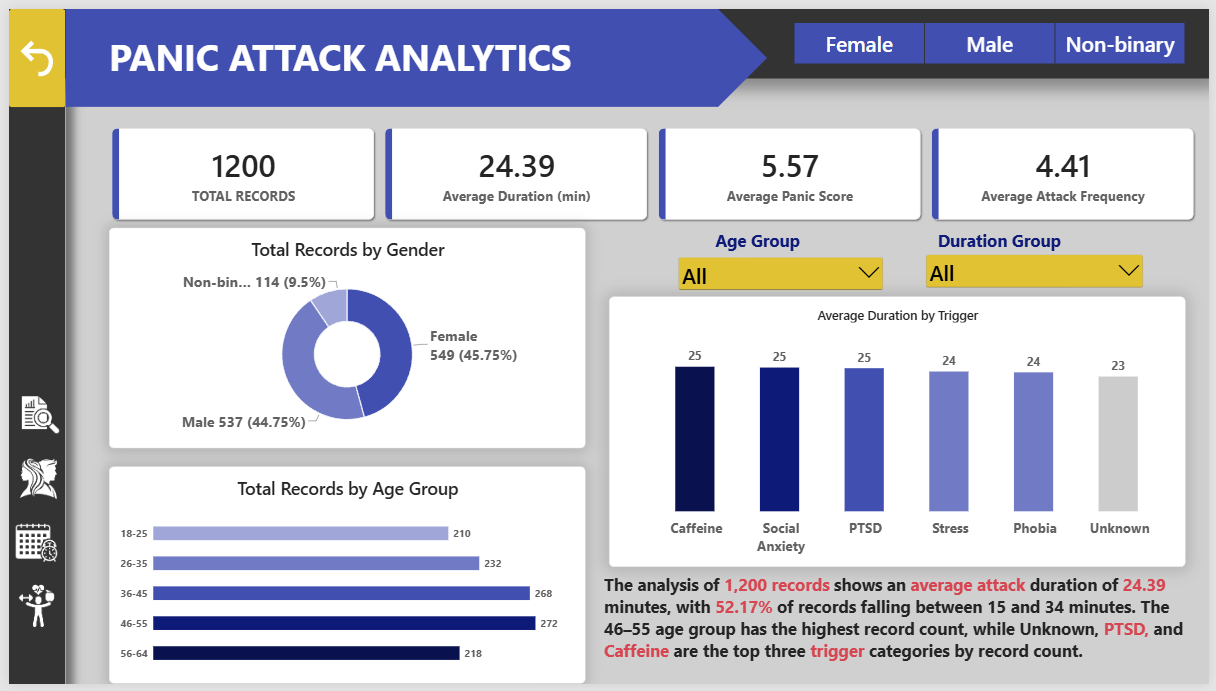

What the dashboard file says about the page in this screenshot:
{"tool":"powerbi","page":{"name":"Executive Summary","canvas":[1920,1080],"ordinal":0},"visuals":[{"type":"shape","box":[0,0,90,1080],"z":0},{"type":"shape","box":[55,0,1865,111.2],"z":1000},{"type":"cardVisual","fields":{"Data":["MEASURABLE_TABLE.TOTAL RECORDS","MEASURABLE_TABLE.AVG_DURATION","MEASURABLE_TABLE.AVG_PANIC_SCORE","MEASURABLE_TABLE.AVG_ATTACK_FRQ"]},"box":[160,185,1740,156],"z":3000},{"type":"columnChart","title":"Average Duration by Trigger","fields":{"Category":["PANIC_ATTACK_DATA.TRIGGER_REASON"],"Y":["MEASURABLE_TABLE.AVG_DURATION"]},"box":[960,460,922.5,432.5],"z":4000},{"type":"slicer","fields":{"Values":["PANIC_ATTACK_DATA.GENDER"]},"box":[1235,20,664.2,69.2],"z":5000},{"type":"slicer","fields":{"Values":["PANIC_ATTACK_DATA.Duration Group"]},"box":[1462.5,388.8,357.5,90],"z":6000},{"type":"slicer","fields":{"Values":["PANIC_ATTACK_DATA.AGE_GROUP"]},"box":[1066.2,391.2,337.5,80],"z":7000},{"type":"textbox","box":[1130,351.2,192.5,40],"z":8000},{"type":"textbox","box":[1485,351.2,237.5,47.5],"z":9000},{"type":"actionButton","box":[0,0,90,157.5],"z":10000},{"type":"donutChart","title":"Total Records by Gender","fields":{"Category":["PANIC_ATTACK_DATA.GENDER"],"Y":["MEASURABLE_TABLE.TOTAL RECORDS"]},"box":[160,350,762.5,352.5],"z":12000},{"type":"textbox","box":[952.5,902.5,946.2,175],"z":13000},{"type":"shape","box":[90,0,1123.3,156.7],"z":14000},{"type":"textbox","box":[160,35,970,90],"z":15000},{"type":"image","box":[2,698,90,102],"z":16000,"group":"g1"},{"type":"image","box":[2,600,90,102],"z":17000,"group":"g1"},{"type":"image","box":[0,800,90,102],"z":18000,"group":"g1"},{"type":"image","box":[0,902,90,102],"z":19000,"group":"g1"},{"type":"clusteredBarChart","title":"Total Records by Age Group","fields":{"Category":["PANIC_ATTACK_DATA.AGE_GROUP"],"Y":["MEASURABLE_TABLE.TOTAL RECORDS"]},"box":[160,732.5,762.5,347.5],"z":19002},{"type":"group","id":"g1","title":"Group 1","box":[0,600,92,404],"z":19003}]}

Visuals, with their boxes on the page's 1920x1080 design canvas (x1, y1, x2, y2). These are canvas units, not pixel positions in the 1216x691 screenshot, which may show the page scaled, cropped or inside an application window:
shape: 0 0 90 1080
shape: 55 0 1920 111
cardVisual - MEASURABLE_TABLE.TOTAL RECORDS x MEASURABLE_TABLE.AVG_DURATION: 160 185 1900 341
"Average Duration by Trigger" columnChart: 960 460 1882 892
slicer - PANIC_ATTACK_DATA.GENDER: 1235 20 1899 89
slicer - PANIC_ATTACK_DATA.Duration Group: 1462 389 1820 479
slicer - PANIC_ATTACK_DATA.AGE_GROUP: 1066 391 1404 471
textbox: 1130 351 1322 391
textbox: 1485 351 1722 399
actionButton: 0 0 90 158
"Total Records by Gender" donutChart: 160 350 922 702
textbox: 952 902 1899 1078
shape: 90 0 1213 157
textbox: 160 35 1130 125
image: 2 698 92 800
image: 2 600 92 702
image: 0 800 90 902
image: 0 902 90 1004
"Total Records by Age Group" clusteredBarChart: 160 732 922 1080
"Group 1" group: 0 600 92 1004
